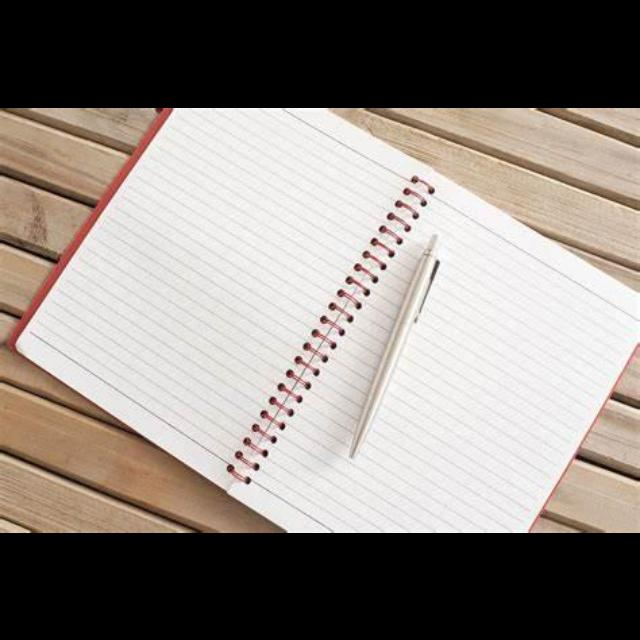papel: (6, 108, 640, 532)
